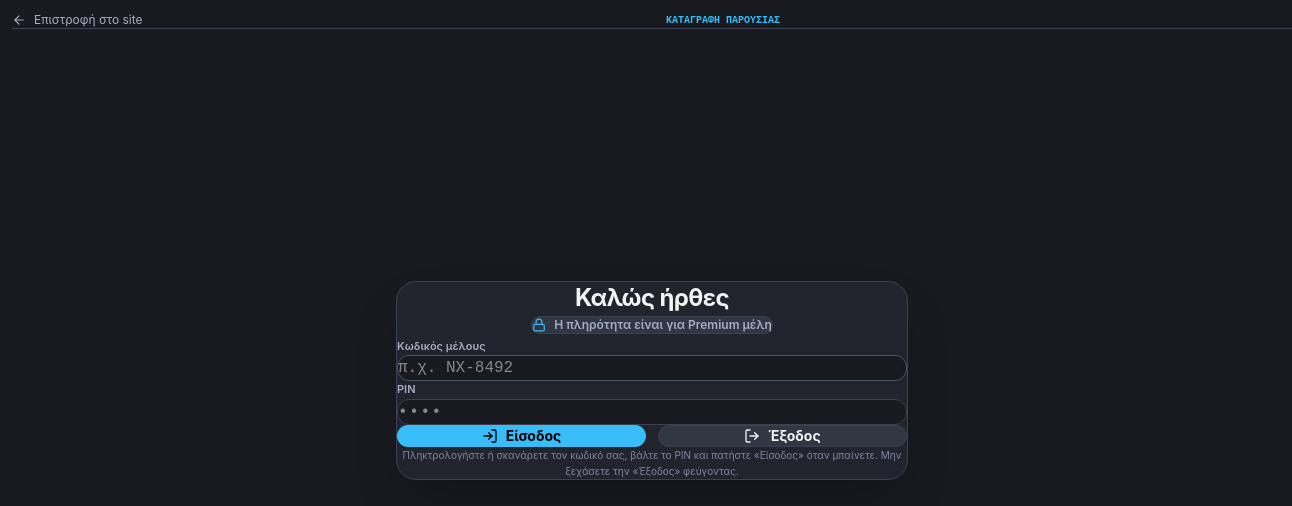
Test: CheckInKiosk (the tablet at the entrance) › records an entry and shows the new occupancy
Type "NX-8492" into the field labelled "Κωδικός μέλους" at (652, 368), box [397,355,907,381]
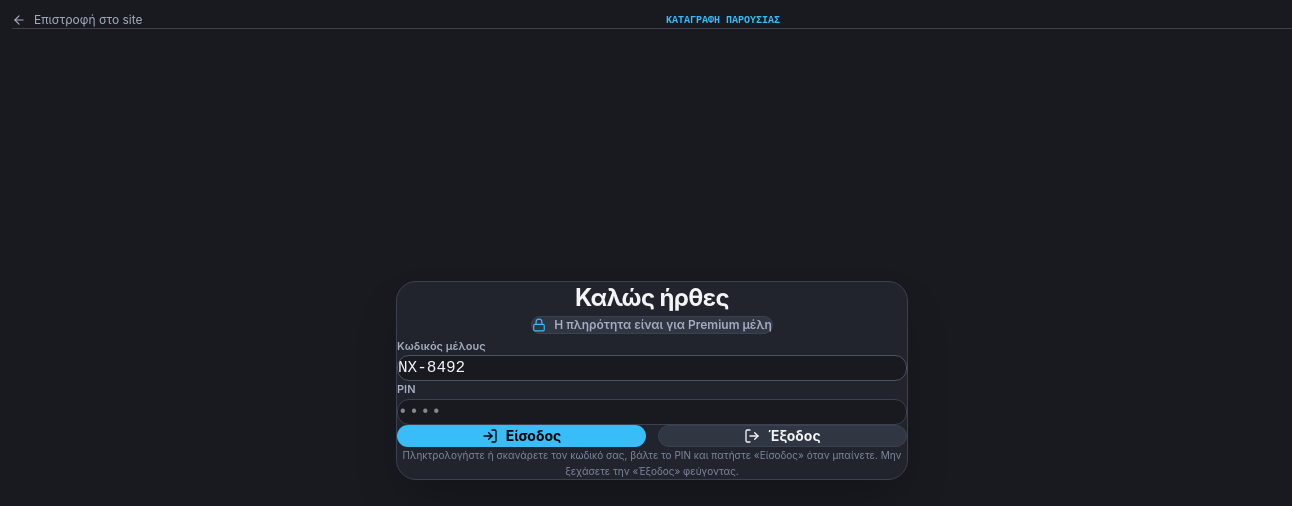
Type "1234" into the password field labelled "PIN" at (652, 412), box [397,399,907,425]
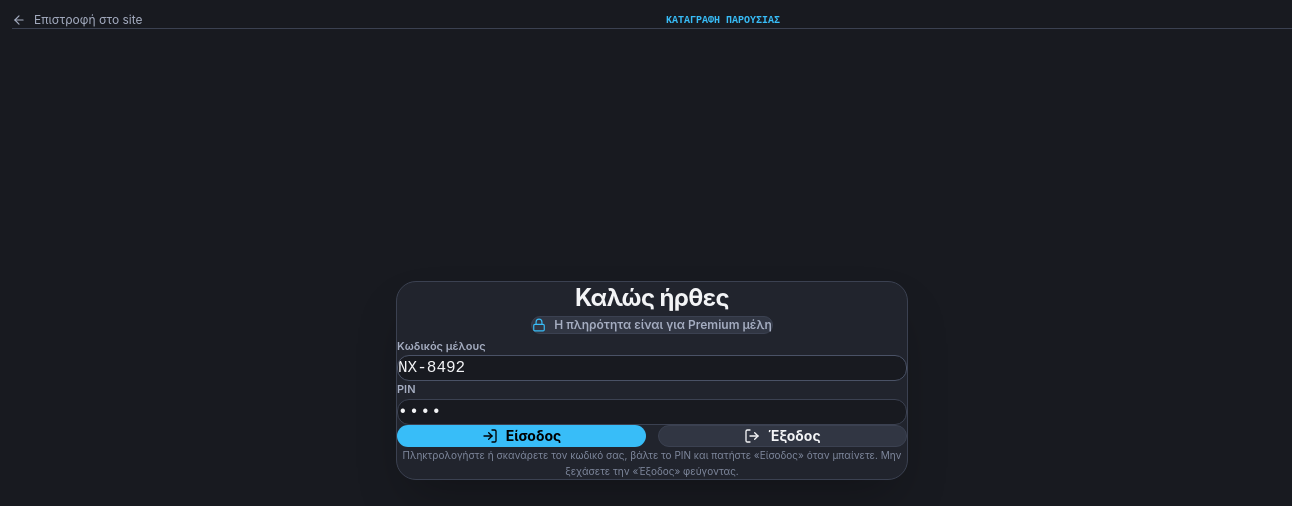
Click the button "Είσοδος" at (522, 436), box [397,425,646,447]
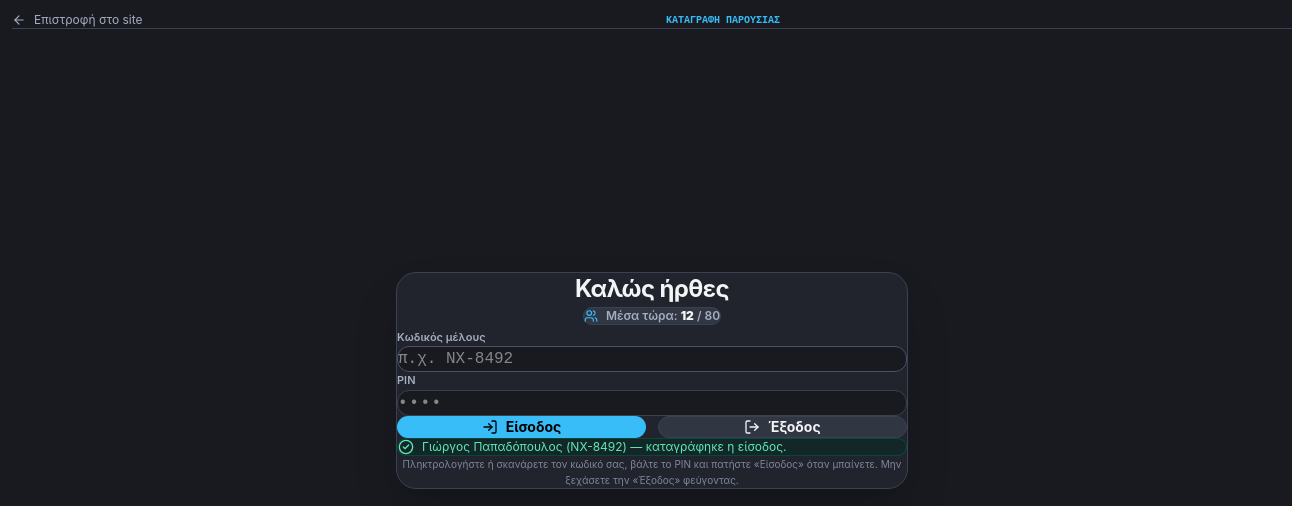
Expected: the message shows "καταγράφηκε η είσοδος", [422,439,786,454]
Expected: the message shows "Γιώργος Παπαδόπουλος", [422,439,786,454]
Expected: the message shows "NX-8492", [422,439,786,454]
